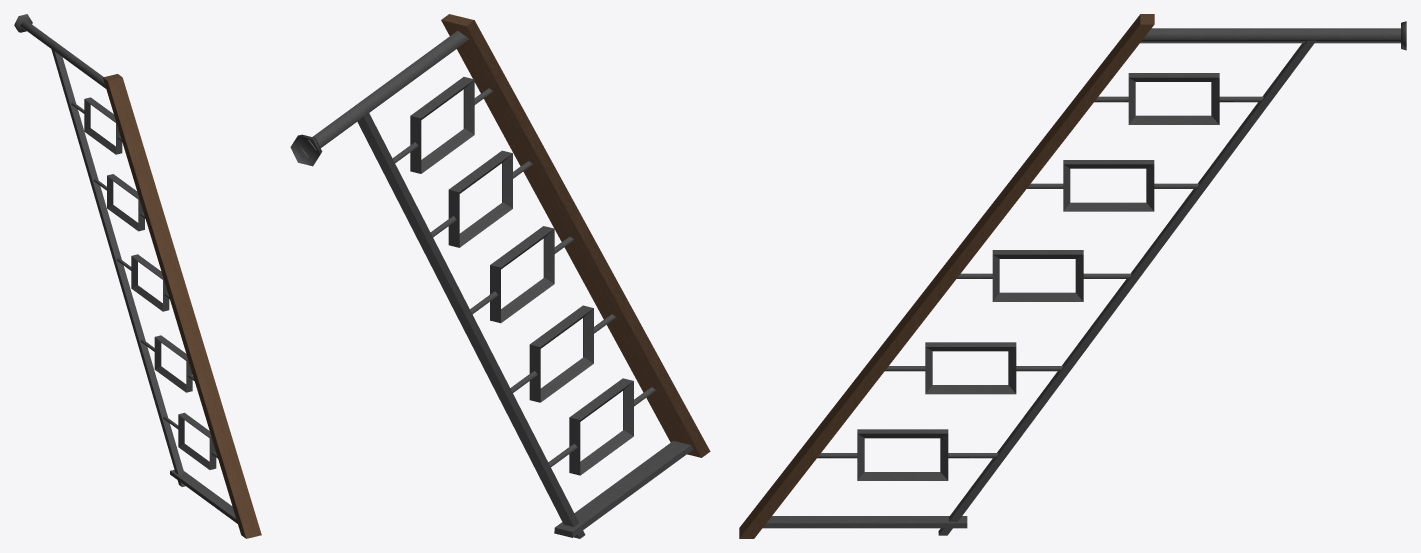
Rendered from nt_2020_house_01_railing_01_LOD1.obj.
3 renders of one model, left to right at view 1: azimuth 30°, elevation 25°; view 2: azimuth 150°, elevation 25°; view 3: azimuth 270°, elevation 25°, orthographic. The views are drawn at different scales.
Parts seen in each view (by area): view 1: metal_chrome_boat, nt_2020_wood_01; view 2: metal_chrome_boat, nt_2020_wood_01; view 3: metal_chrome_boat, nt_2020_wood_01.
Part boxes in pixels (x1=…): metal_chrome_boat: x1=14, y1=14, x2=237, y2=523; nt_2020_wood_01: x1=103, y1=74, x2=261, y2=538; metal_chrome_boat: x1=290, y1=30, x2=693, y2=538; nt_2020_wood_01: x1=441, y1=14, x2=710, y2=457; metal_chrome_boat: x1=763, y1=21, x2=1406, y2=535; nt_2020_wood_01: x1=739, y1=14, x2=1154, y2=538.
Bounding box in the file's own units: 12.16 × 233 × 274.
